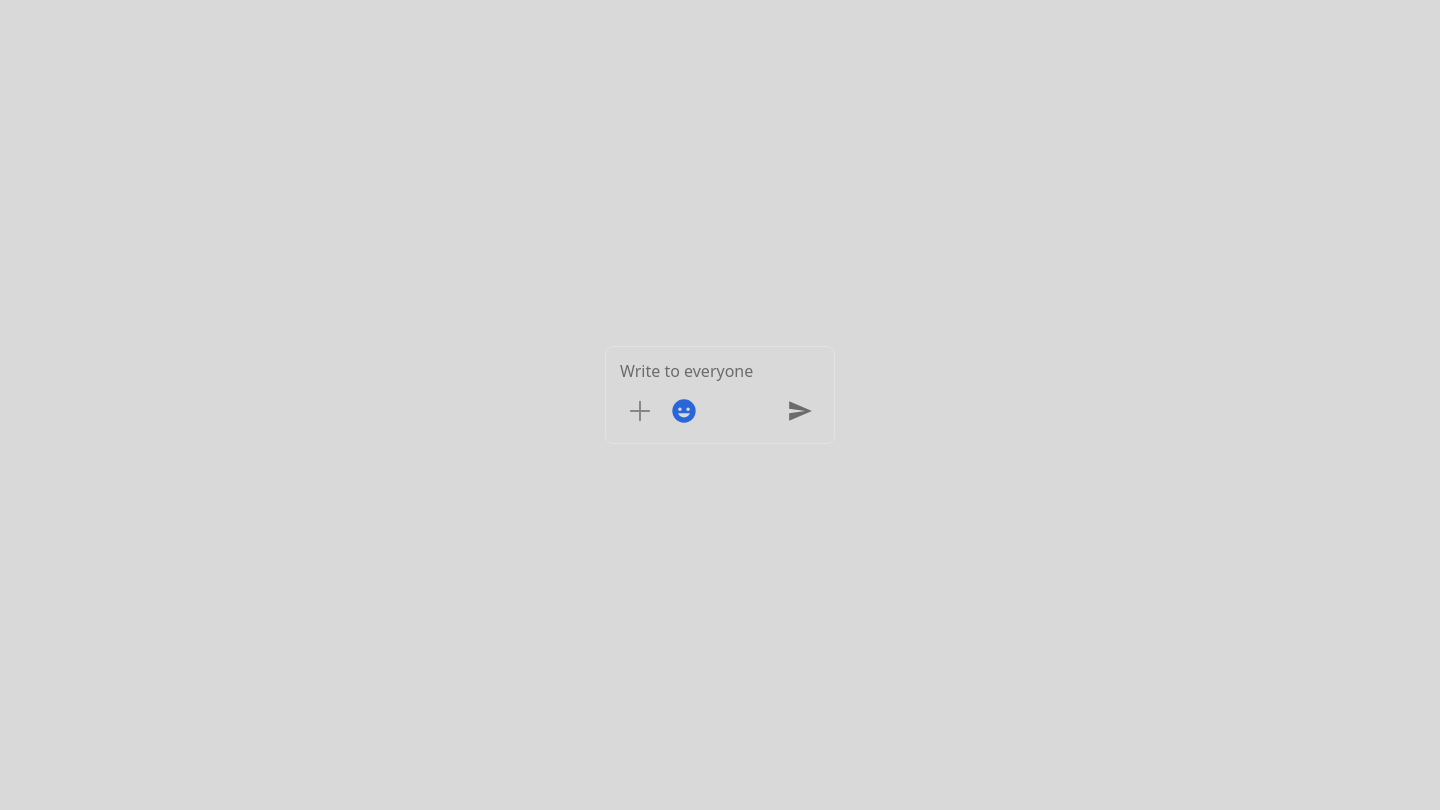
Test case: emoji picker › the picker opens and closes accessibly
The width and height of the screenshot is (1440, 810).
Click the button named "Choose emoji": (684, 411) [664,391,704,431]
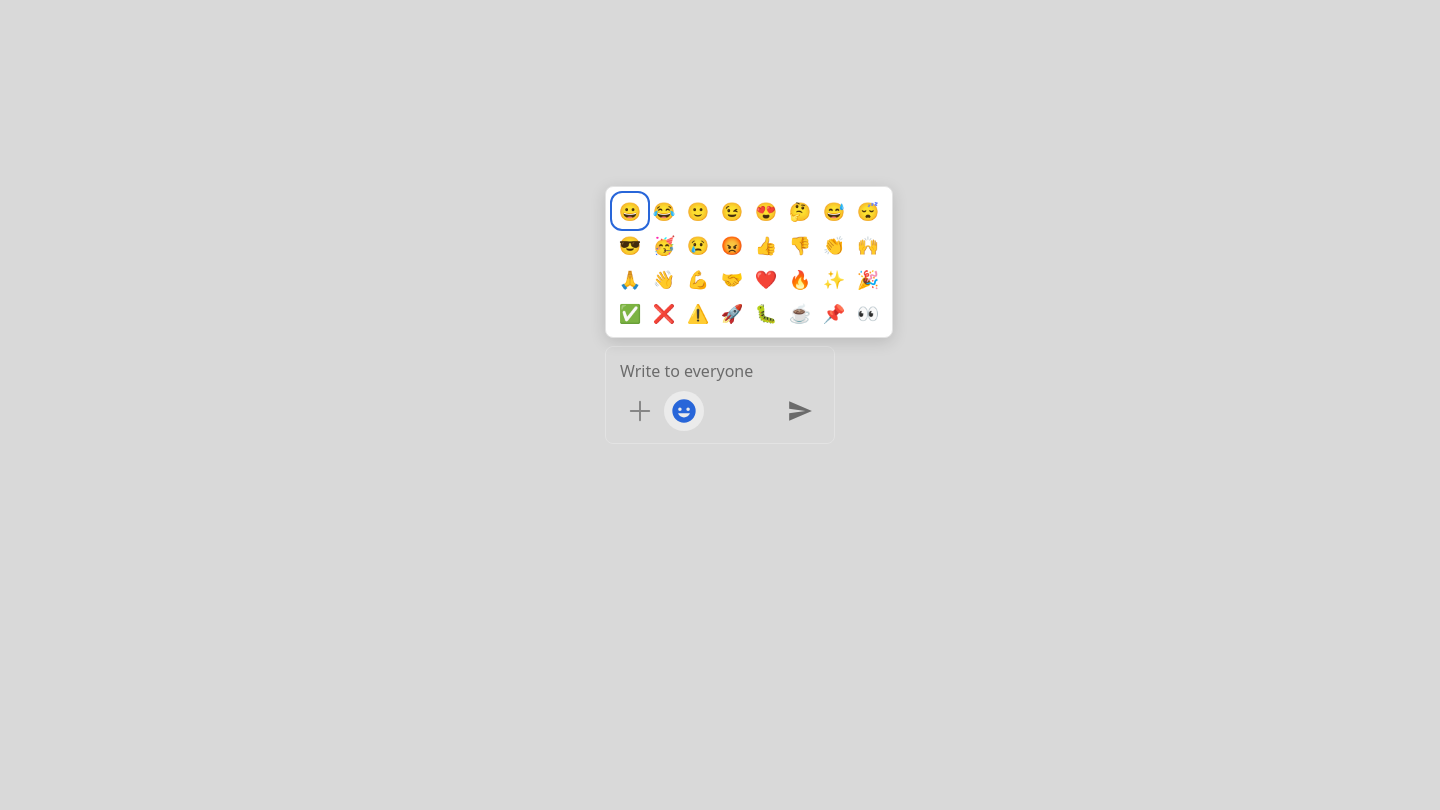
Press Escape
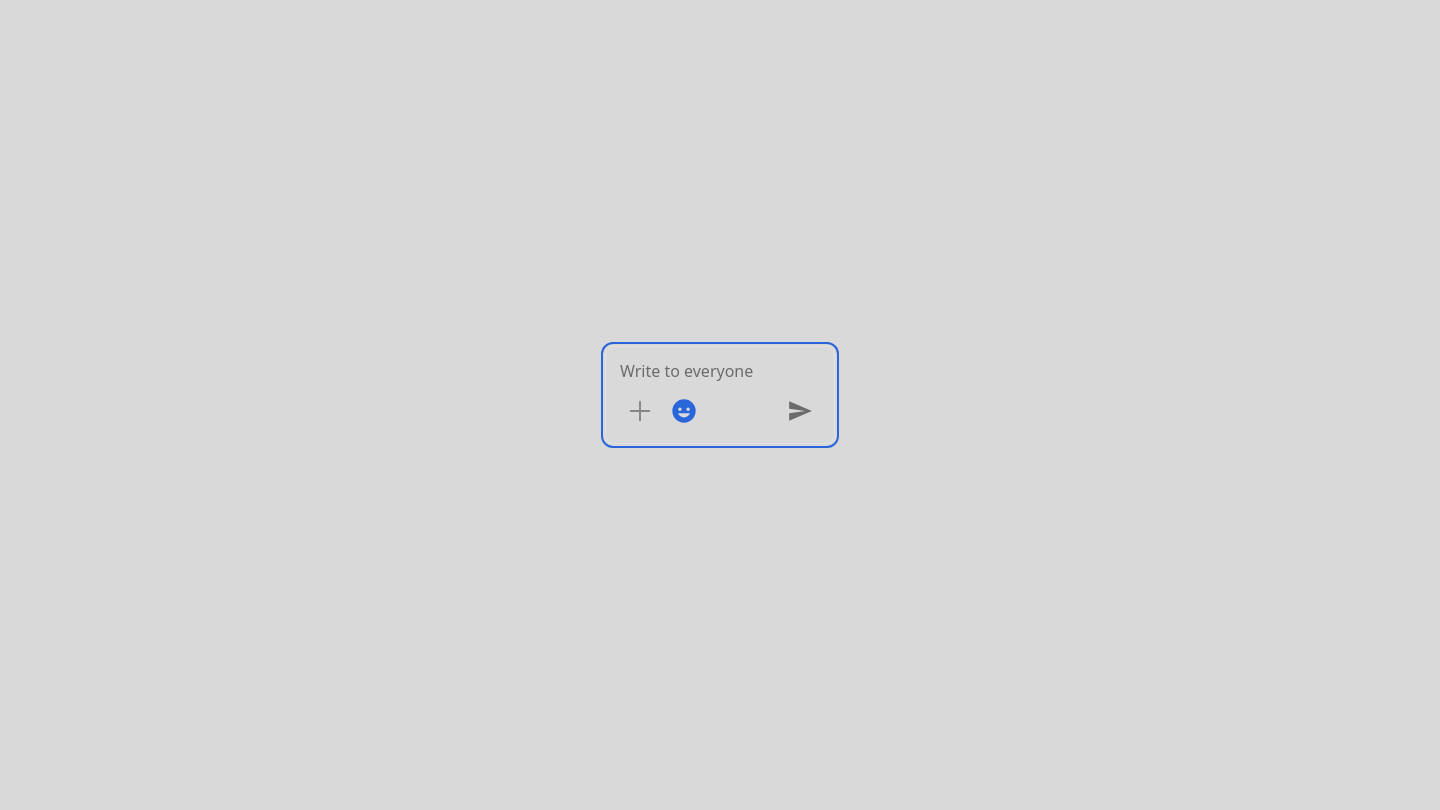
Expected: the dialog is gone
